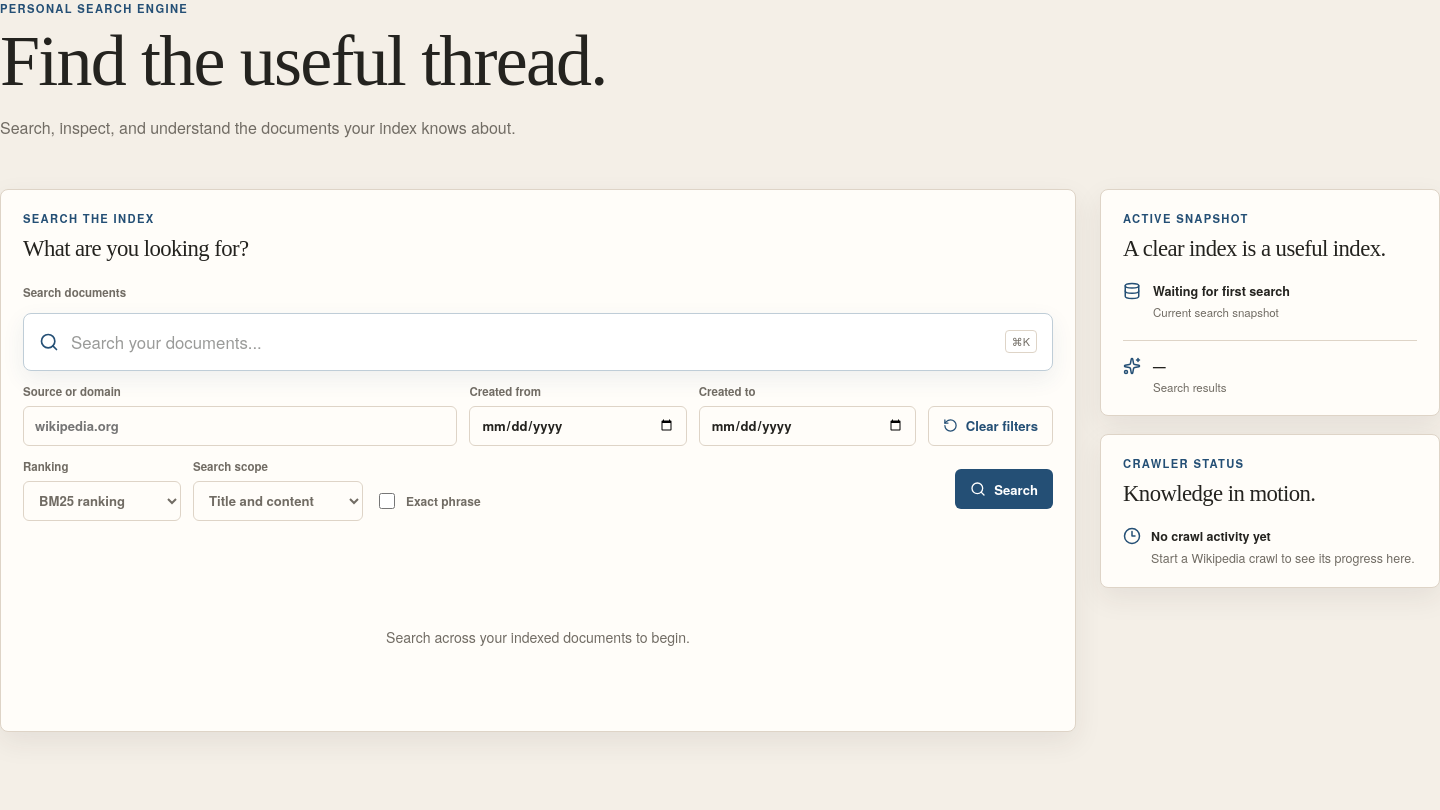
Test: WorkspacePage › submits a BM25 search and renders the returned result
The image size is (1440, 810).
Type "information retrieval" into the search field labelled "Search documents" at point(532, 342), box [69,329,995,355]
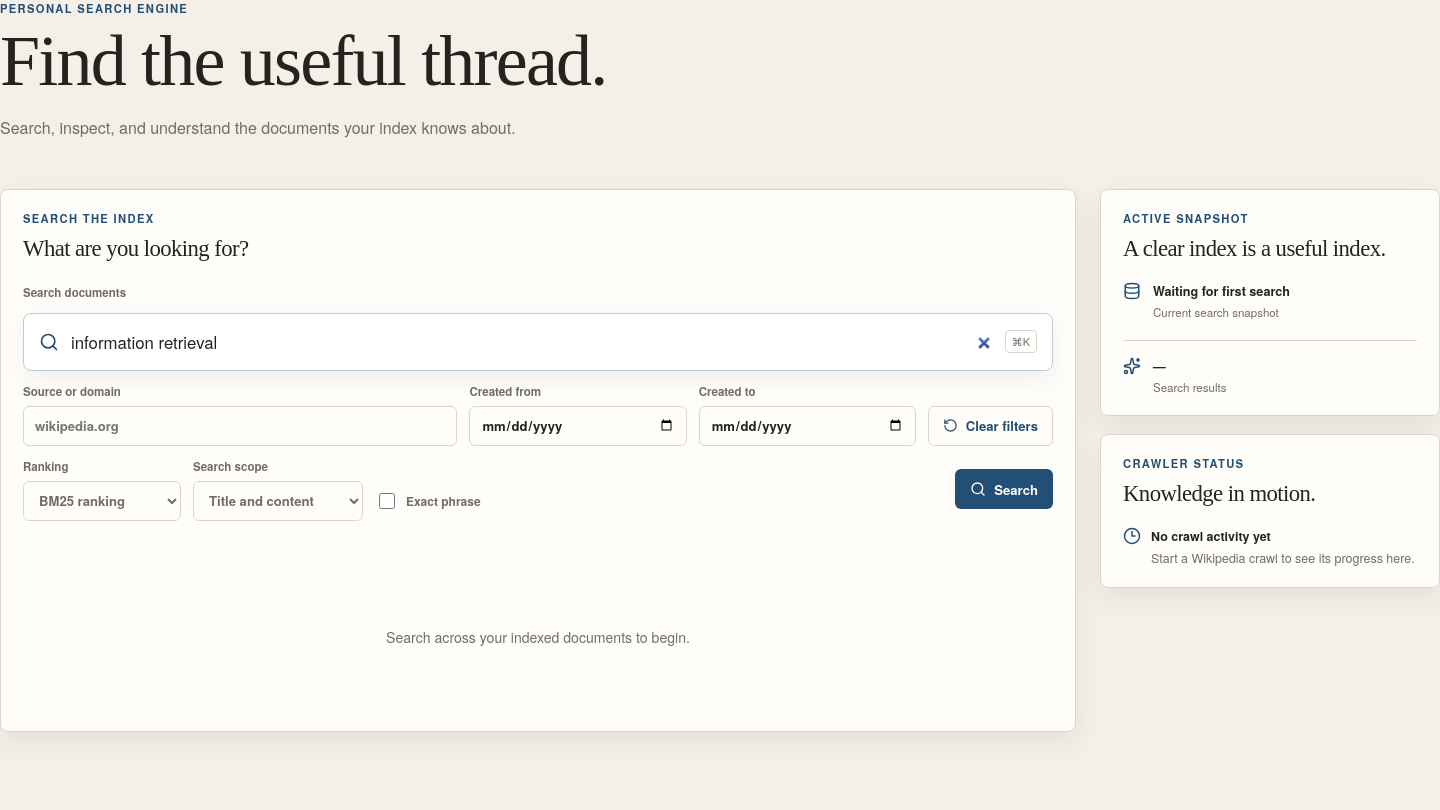
Click the button "Search" at point(1004, 489), box [955,469,1053,509]
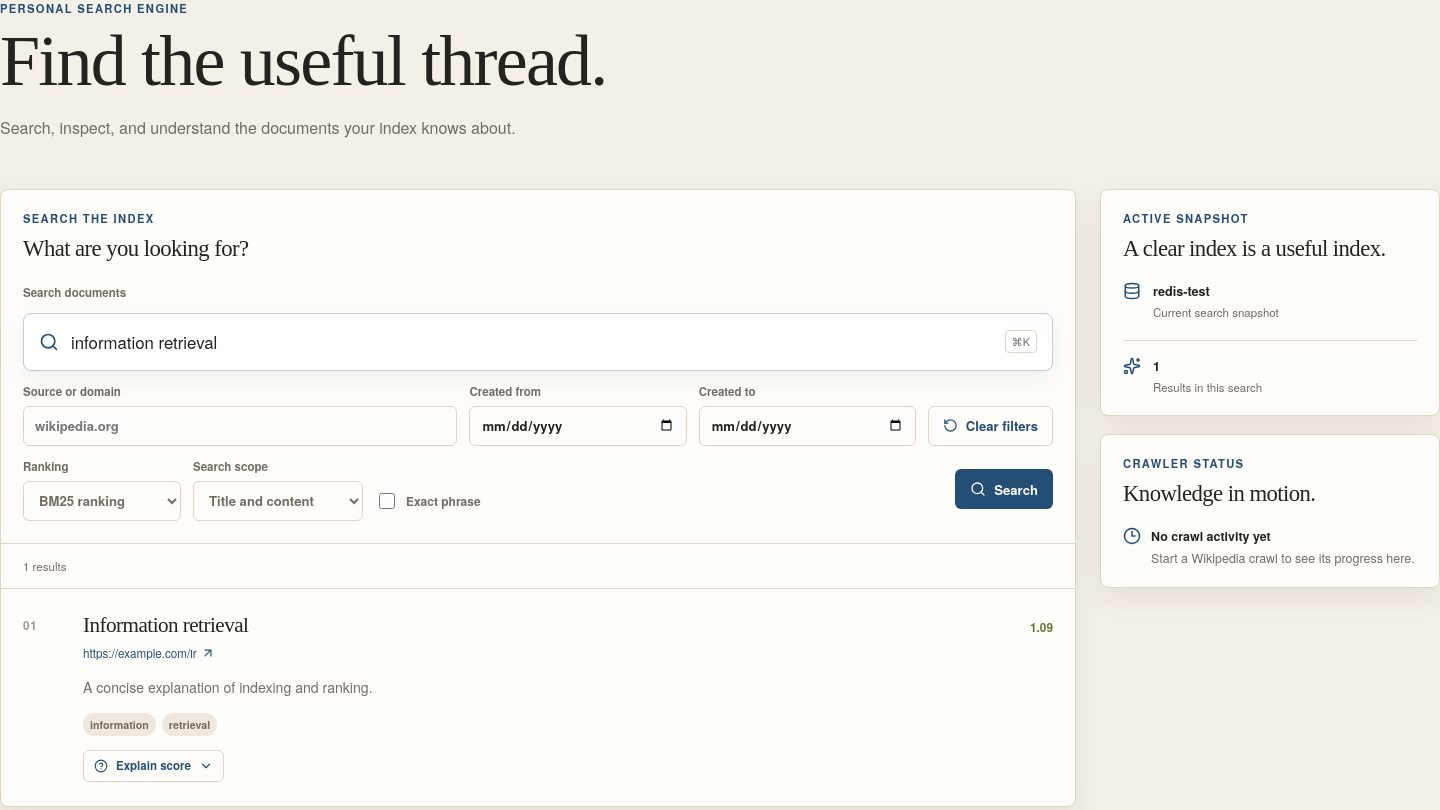
Result: the heading "Information retrieval" is shown at [83,613,248,638]
